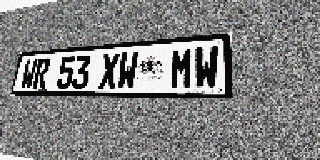3: (71, 55, 92, 89)
5: (56, 56, 76, 89)
M: (170, 47, 194, 89)
R: (32, 58, 51, 89)
W: (194, 45, 219, 89), (116, 51, 139, 89), (20, 59, 38, 89)
X: (98, 53, 120, 89)
